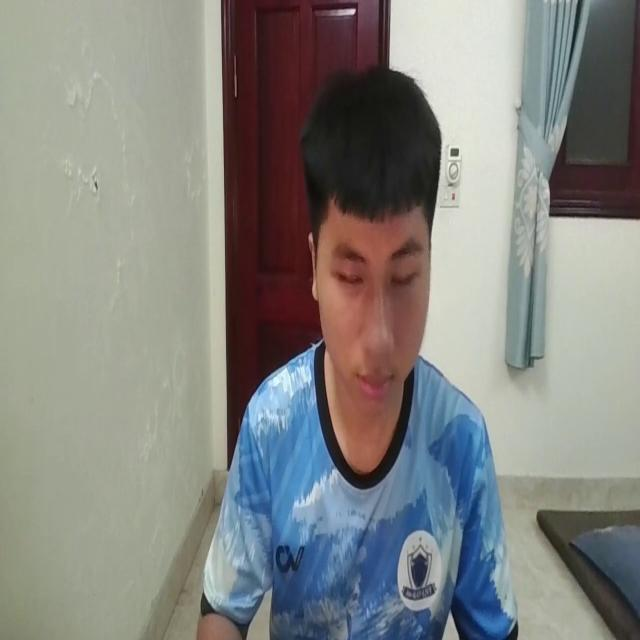student: (195, 58, 518, 640)
